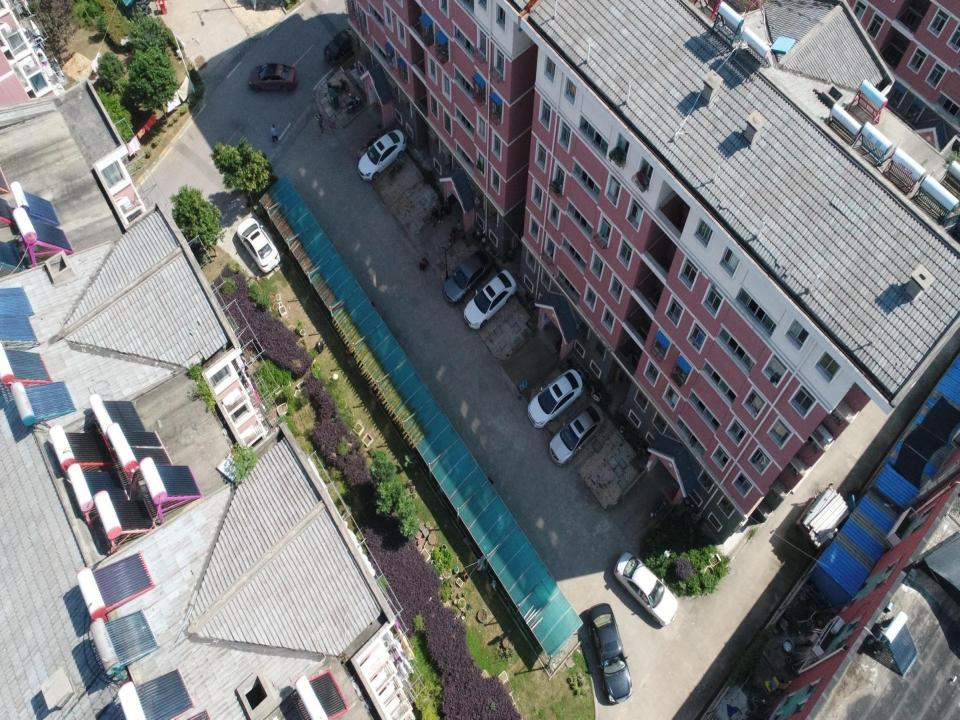car: (614, 547, 682, 629), (584, 604, 634, 704), (528, 368, 584, 429), (464, 268, 516, 327), (550, 404, 602, 462), (237, 213, 281, 277), (356, 131, 406, 182), (442, 255, 492, 303), (248, 62, 299, 98)
